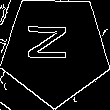N_E: (31, 29, 80, 70)
